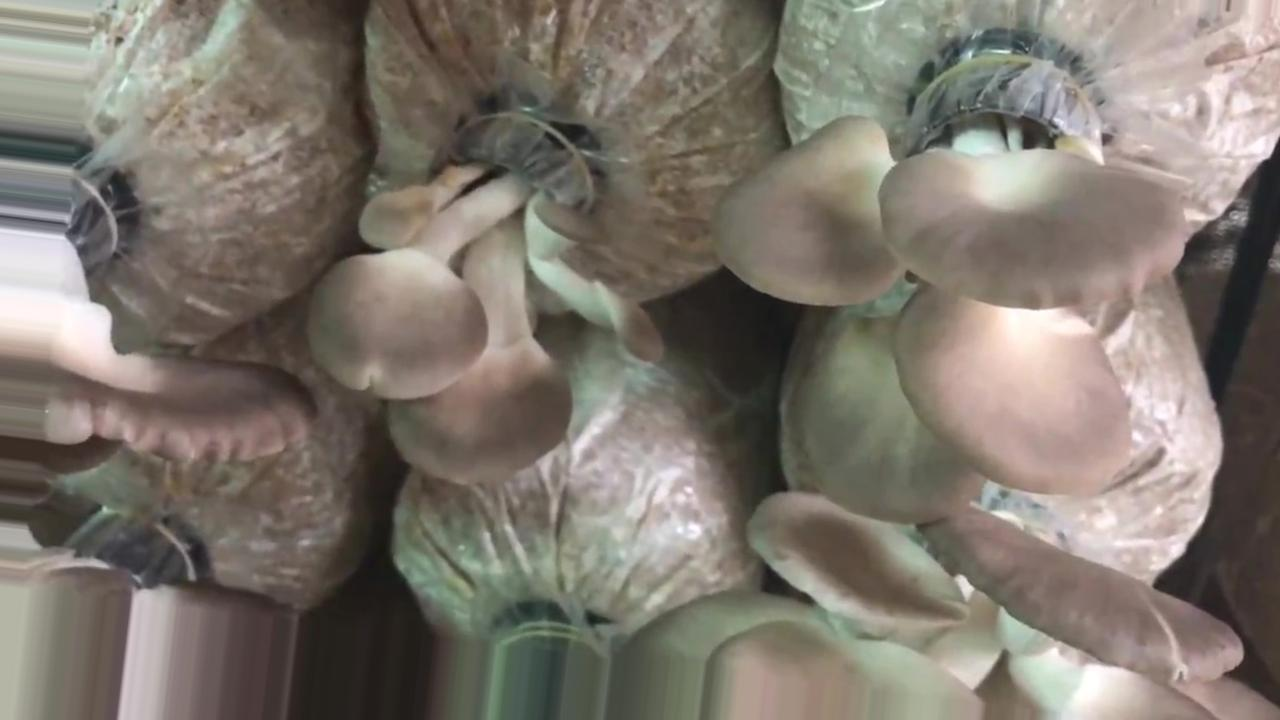nam: (716, 48, 1188, 523), (614, 505, 1280, 719), (310, 92, 661, 491), (80, 382, 300, 453)
